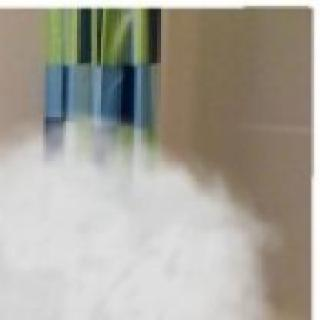smoke: (0, 119, 288, 320)
